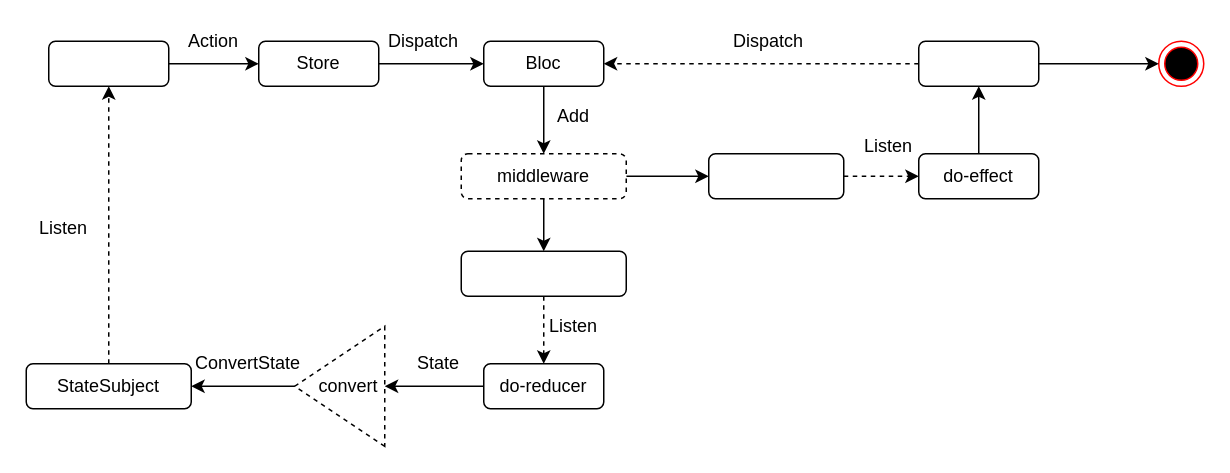
Some shapes in this 1230 by 473 pixel diagram are drawn without their labels. Each missing label, with the centre of its shape:
"do-things" belongs at (x=978, y=63).
"EffectSubject" belongs at (x=775, y=175).
"ReducerSubject" belongs at (x=543, y=273).
"View" belongs at (x=108, y=63).
